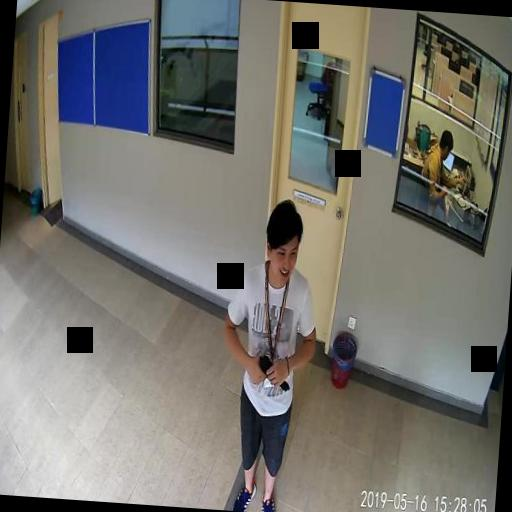Handgun: (255, 352, 290, 390)
